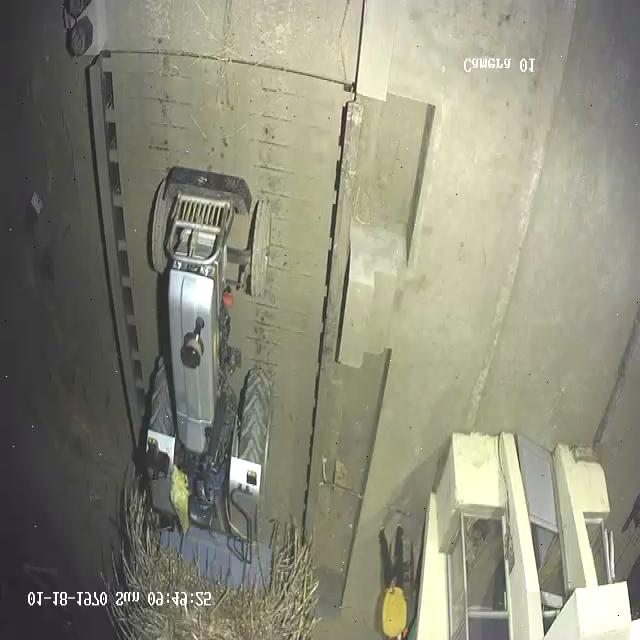Tratores - v5 YOLO V8L 2024-11-13: (140, 164, 278, 504)
